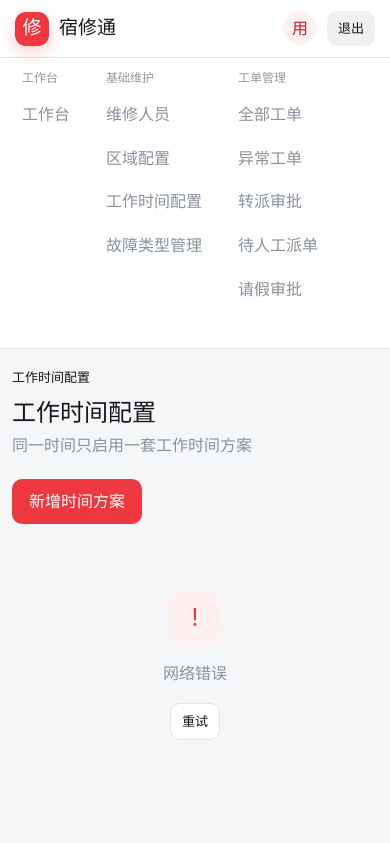
Test: 工作时间配置页 › 加载失败显示错误状态并可重试
The image size is (390, 843).
Click the button "重试": (195, 721) [170,703,220,740]
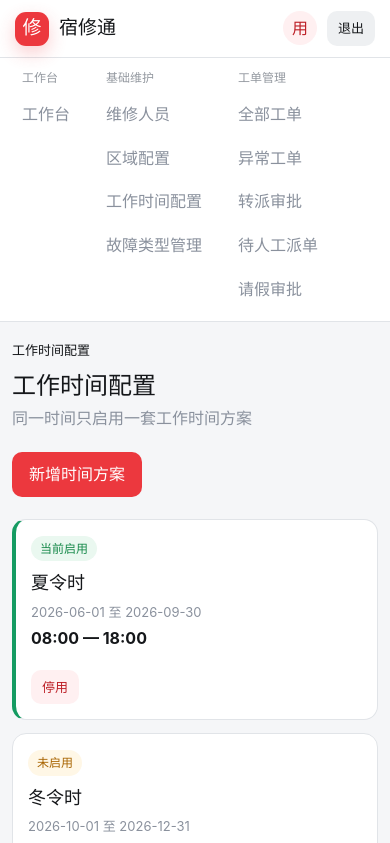
Expected: the text "夏令时" is shown, [31,572,85,593]
